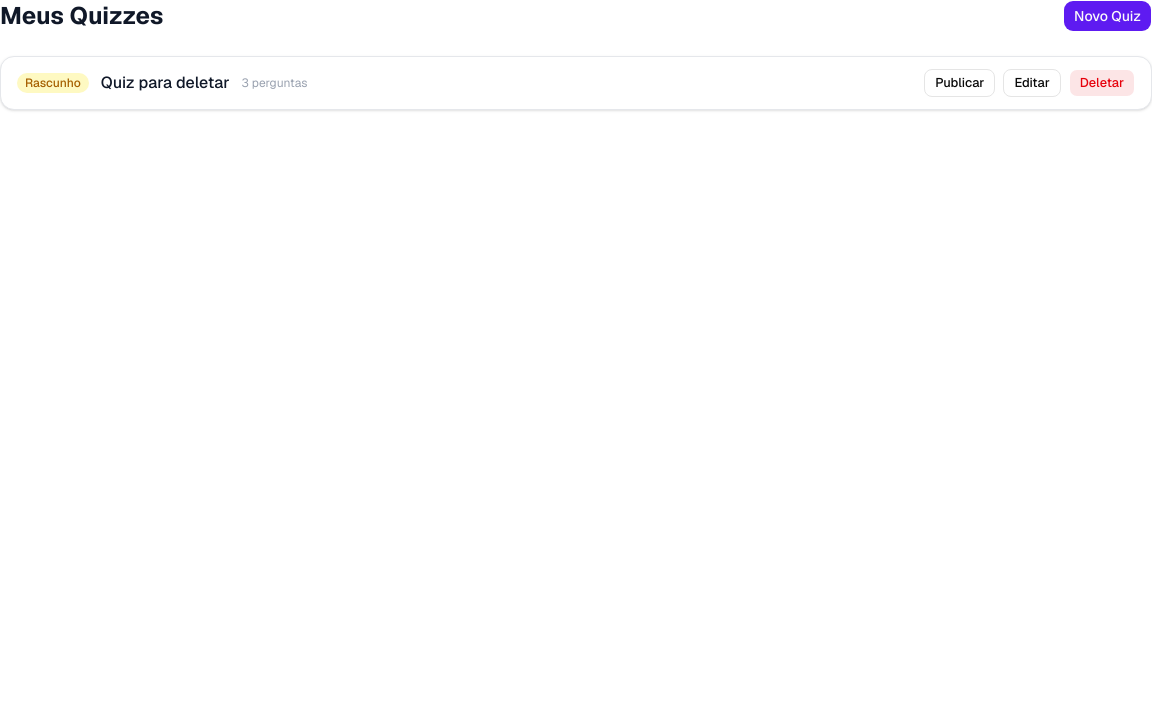
Test case: QuizzesPage › when delete is clicked › should show confirmation dialog
Click the button "Deletar": (1102, 83) [1069,69,1135,97]
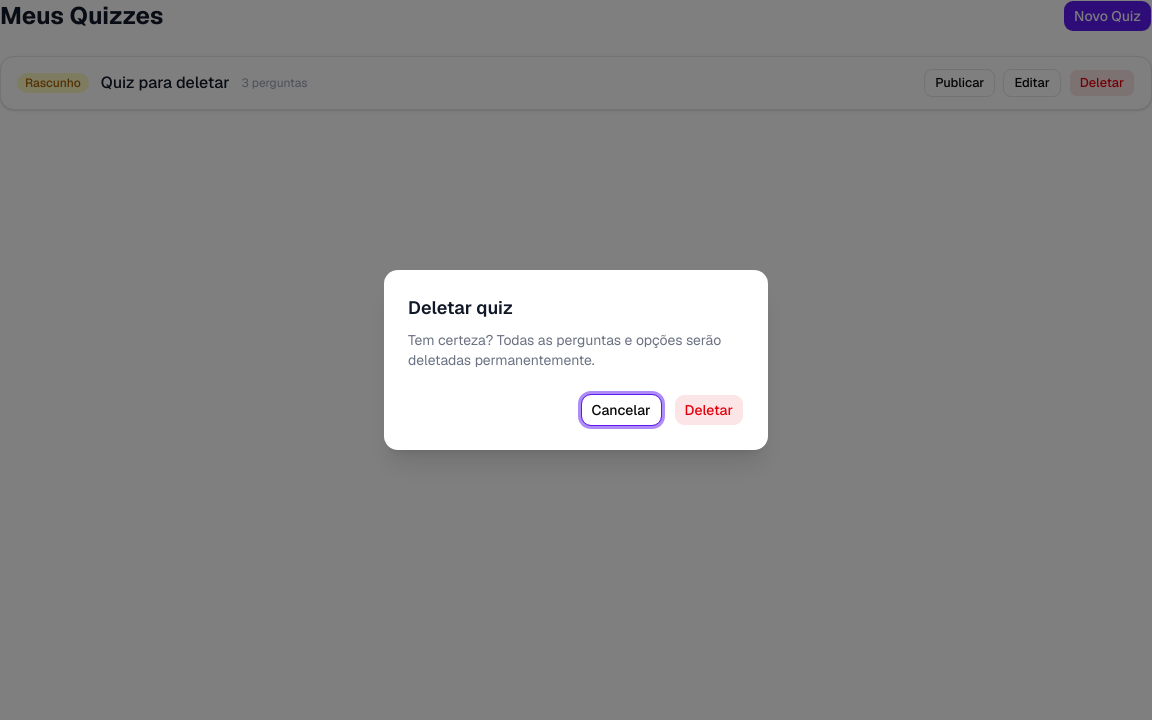
Now the dialog with test id "modal-confirm-delete" is shown, box [384,270,768,450]
